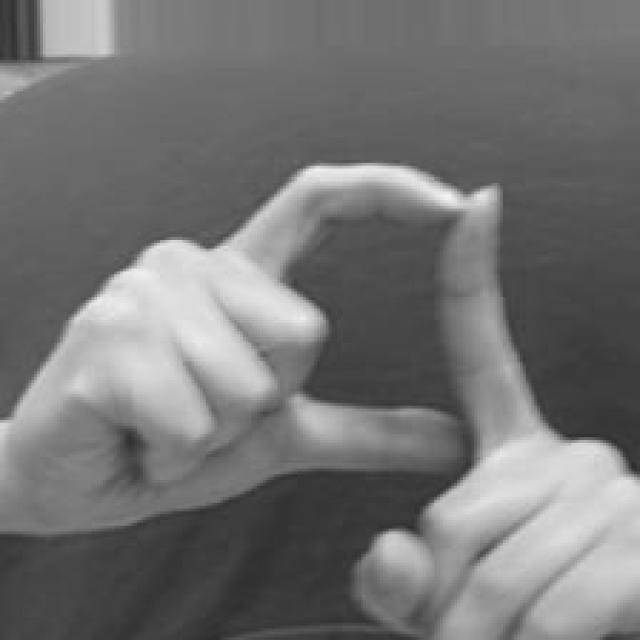D: (1, 160, 616, 640)
